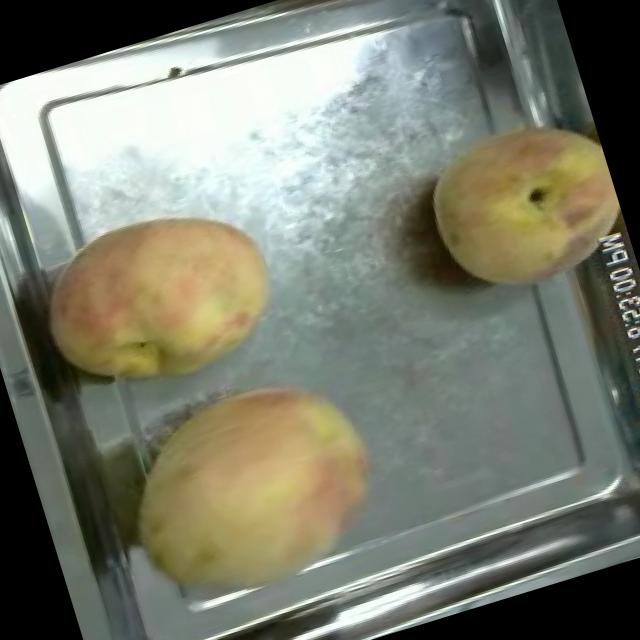Fruit: (94, 346, 410, 638), (12, 174, 302, 421), (402, 92, 636, 316)
